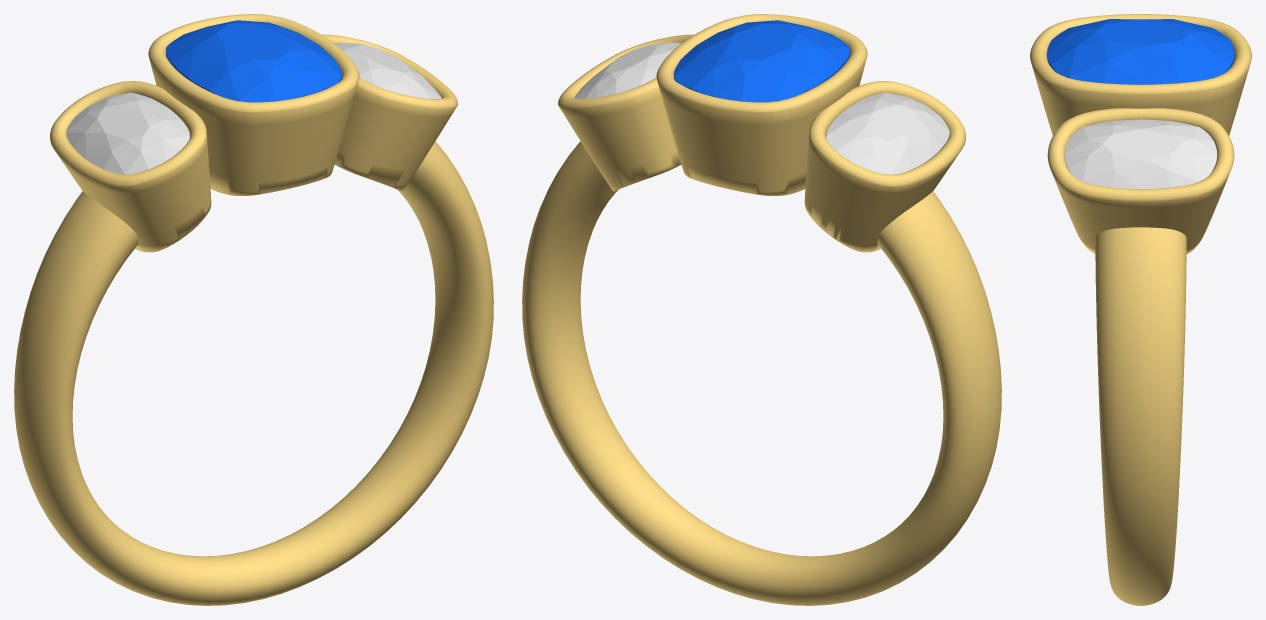
Rendered from bluesapphire-cushion-yellowgold-bezelset-taperedband-3stone.glb.
3 renders of one model, left to right at view 1: azimuth 30°, elevation 25°; view 2: azimuth 150°, elevation 25°; view 3: azimuth 270°, elevation 25°, orthographic.
Visible parts, largest first — view 1: metal.002, stone.001, side.002, side.003; view 2: metal.002, stone.001, side.002, side.003; view 3: metal.002, stone.001, side.003.
Boxes of the visible parts, x1,y1,x2,y2 form: metal.002: (14, 14, 493, 605); stone.001: (166, 20, 341, 102); side.002: (66, 92, 189, 174); side.003: (334, 42, 441, 98); metal.002: (522, 14, 1001, 605); stone.001: (674, 20, 849, 102); side.002: (826, 92, 949, 174); side.003: (574, 42, 681, 99); metal.002: (1030, 14, 1251, 605); stone.001: (1047, 19, 1234, 84); side.003: (1064, 119, 1217, 189).
Bounding box in the file's own units: 20.09 × 23.03 × 8.45.
